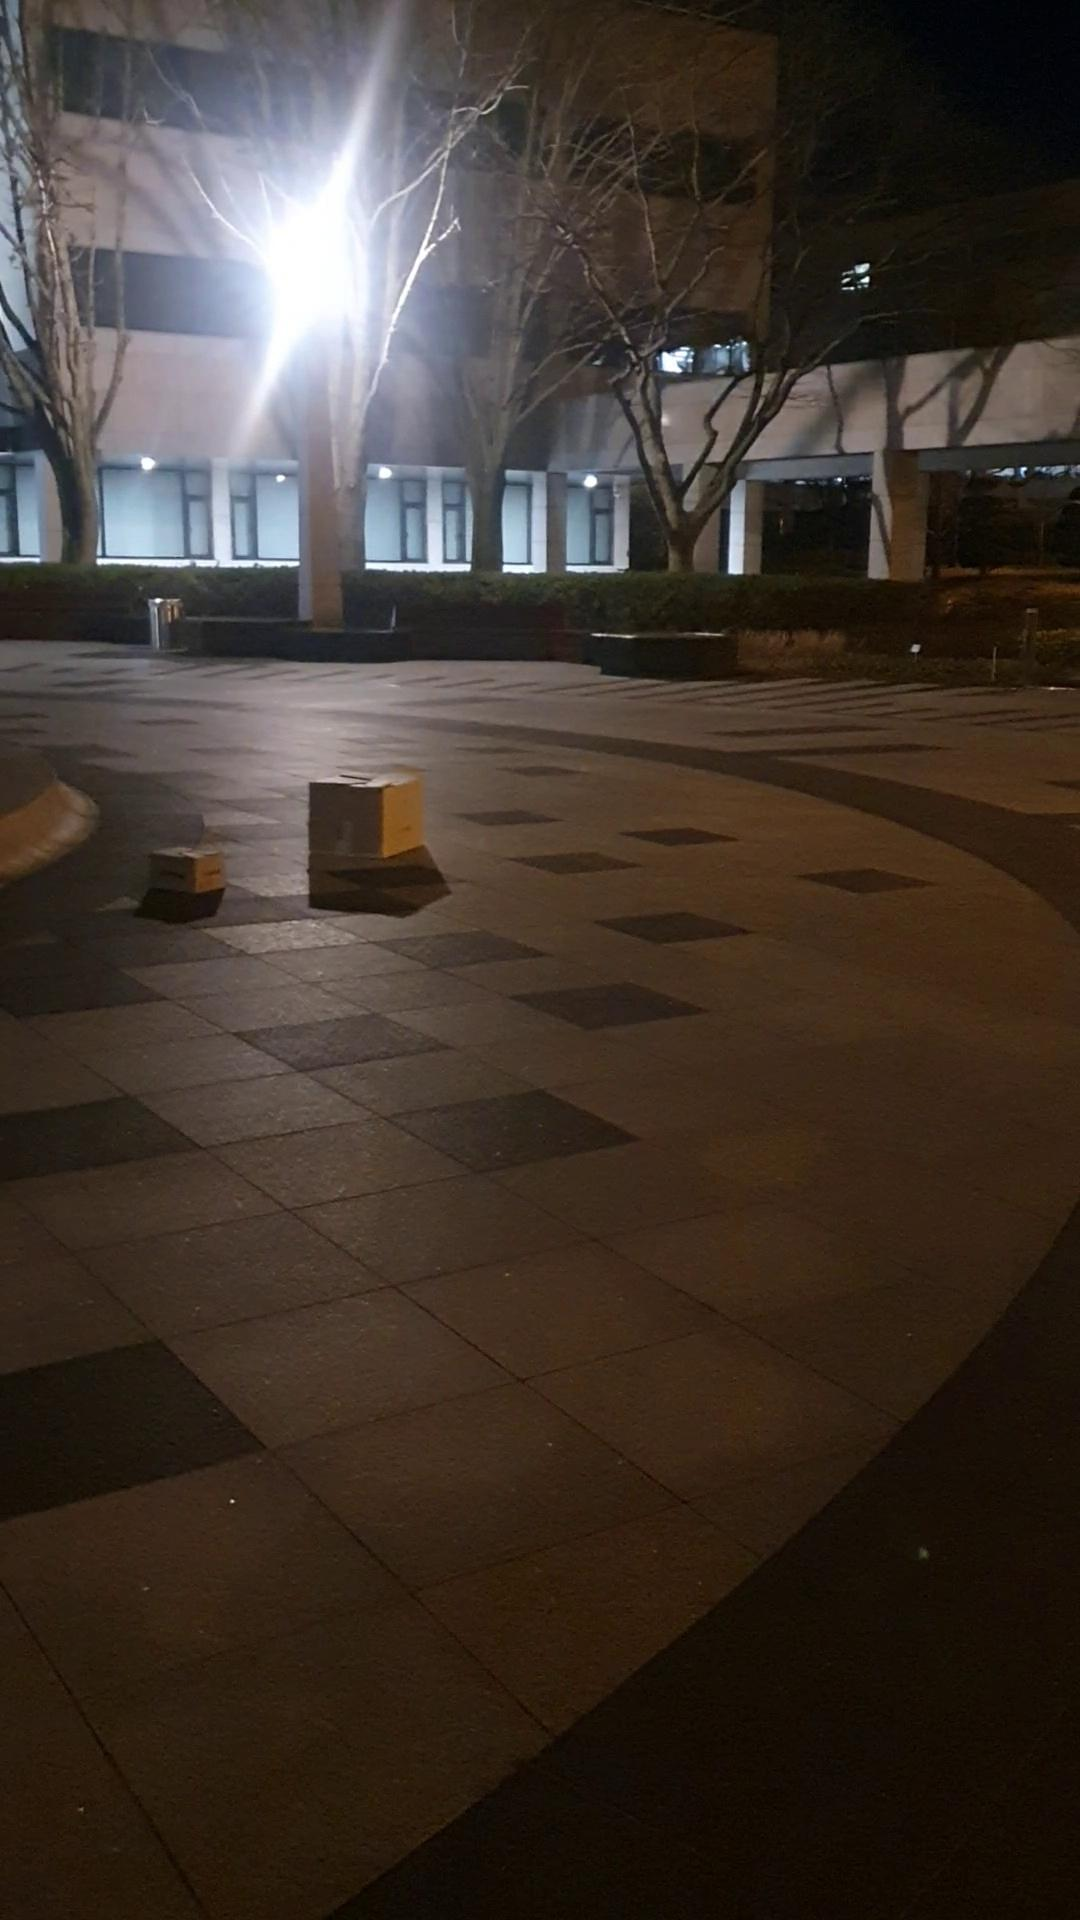Box: (298, 758, 419, 873), (136, 820, 252, 907)
